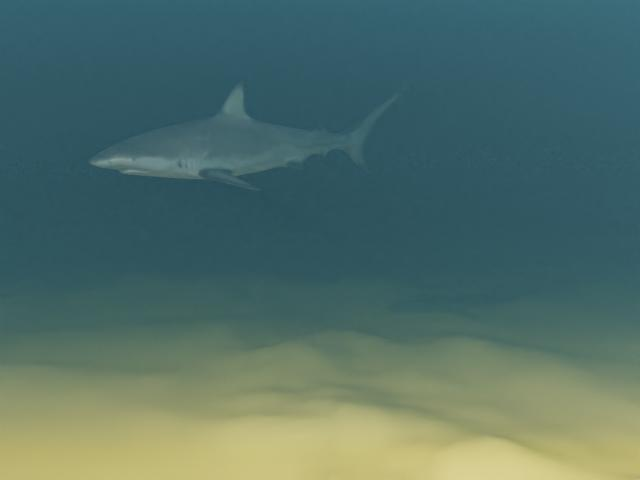Carribean Shark.001: (89, 80, 410, 190)
